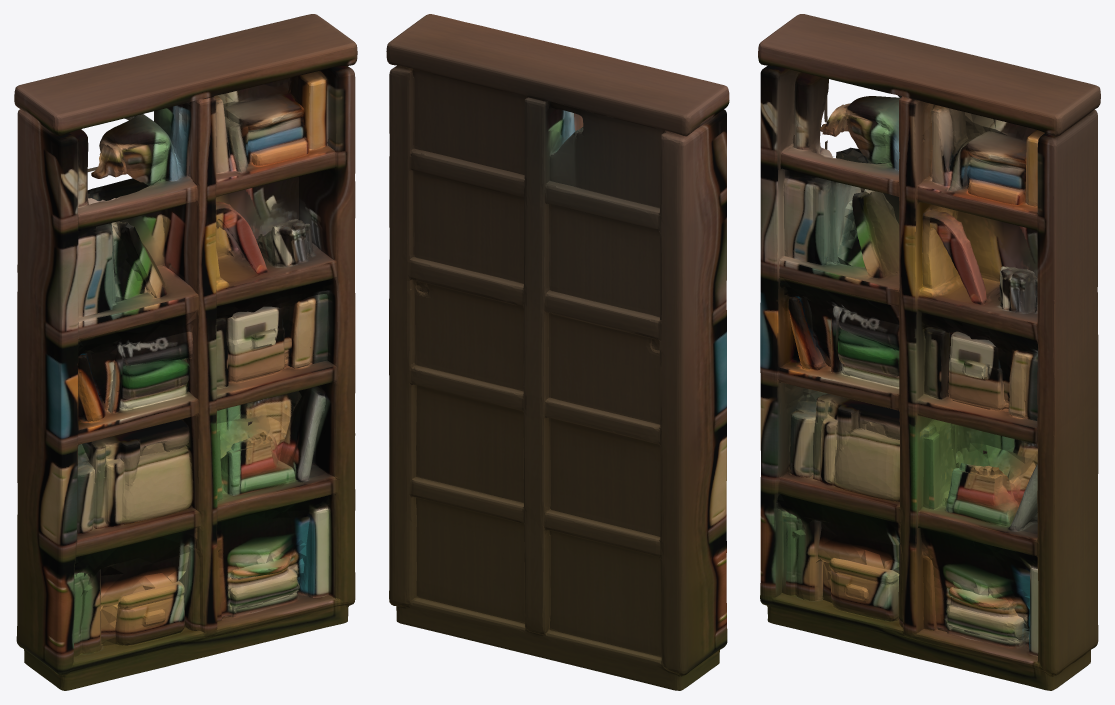
File: dark_bookcase.glb
3 renders of one model, left to right at view 1: azimuth 30°, elevation 25°; view 2: azimuth 150°, elevation 25°; view 3: azimuth 330°, elevation 25°, orthographic.
Visible parts, largest first — view 1: geometry_0; view 2: geometry_0; view 3: geometry_0.
Boxes of the visible parts, <box> form: geometry_0: <box>14,14,357,690</box>; geometry_0: <box>386,14,729,690</box>; geometry_0: <box>758,14,1100,690</box>.
Size of the model in its own units: 0.5513 by 1 by 0.1473.
1 material, 1 textured.
